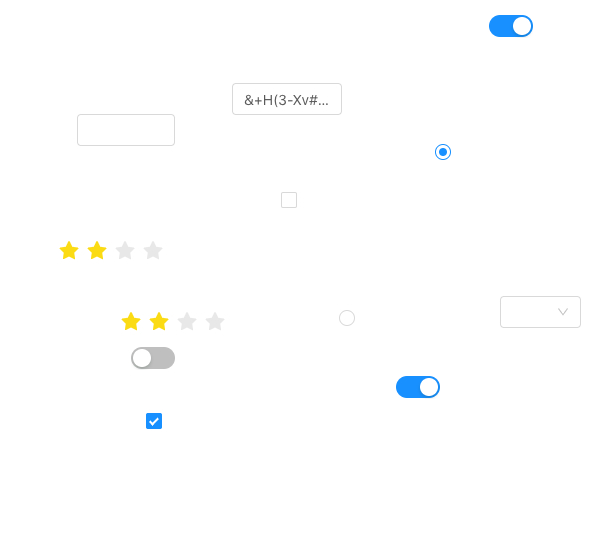Checkbox: (146, 410, 162, 431), (281, 189, 297, 210)
Input: (232, 83, 342, 115), (77, 114, 175, 146)
Radio: (339, 307, 355, 327), (435, 141, 451, 161)
Rate: (121, 305, 241, 337), (59, 234, 179, 266)
Select: (500, 296, 581, 328)
Switch: (131, 346, 175, 370), (396, 375, 440, 399), (489, 14, 533, 38)
